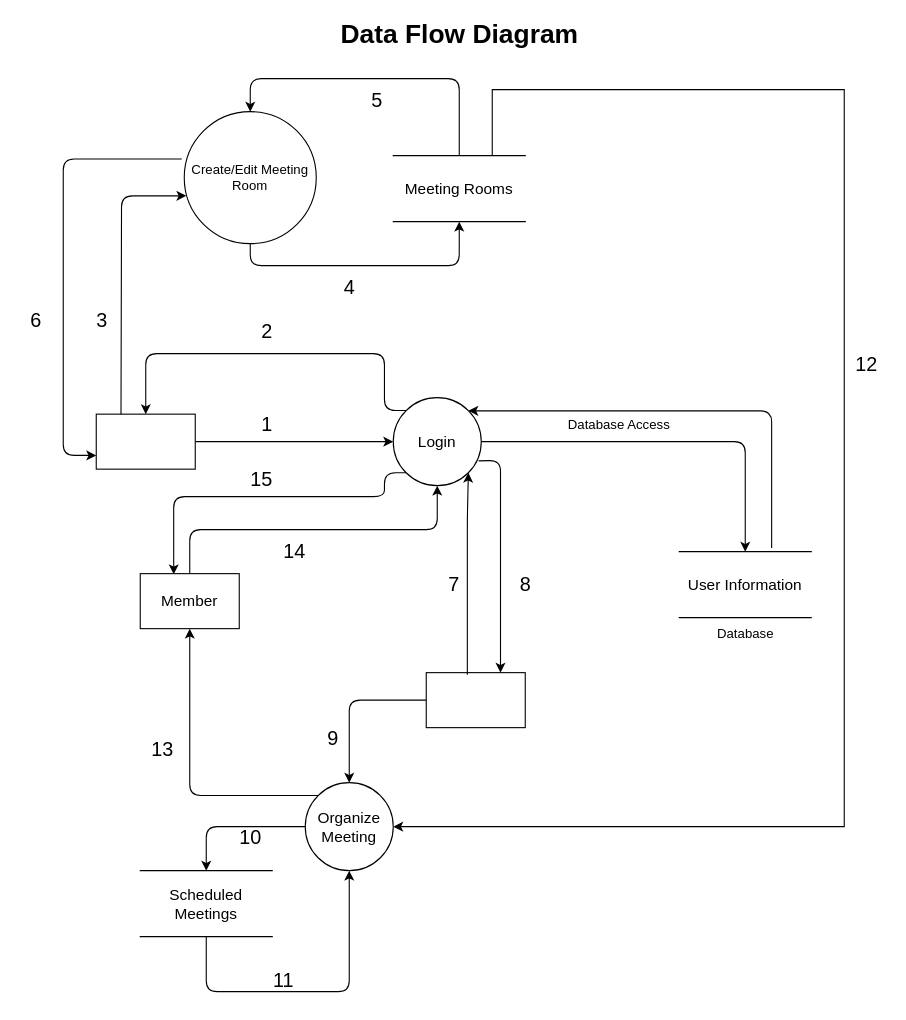
Image size: 906x1020. Some labels were removed from this diagram. Each missing label, with the centre of its shape:
"Admin" belongs at [145,441].
"Manager" belongs at [475,700].
